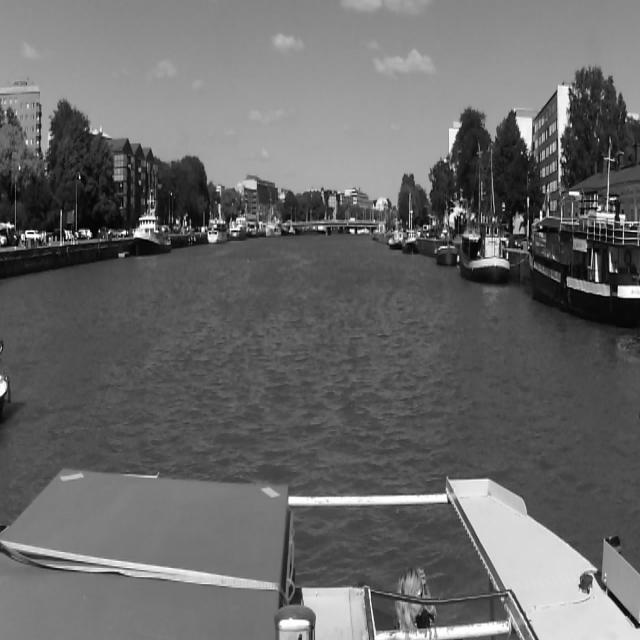ship: (530, 211, 636, 327), (461, 228, 511, 282), (132, 214, 170, 254), (402, 193, 421, 255), (435, 226, 461, 263), (207, 218, 229, 242), (230, 216, 247, 241), (388, 228, 402, 250), (252, 228, 258, 238)
